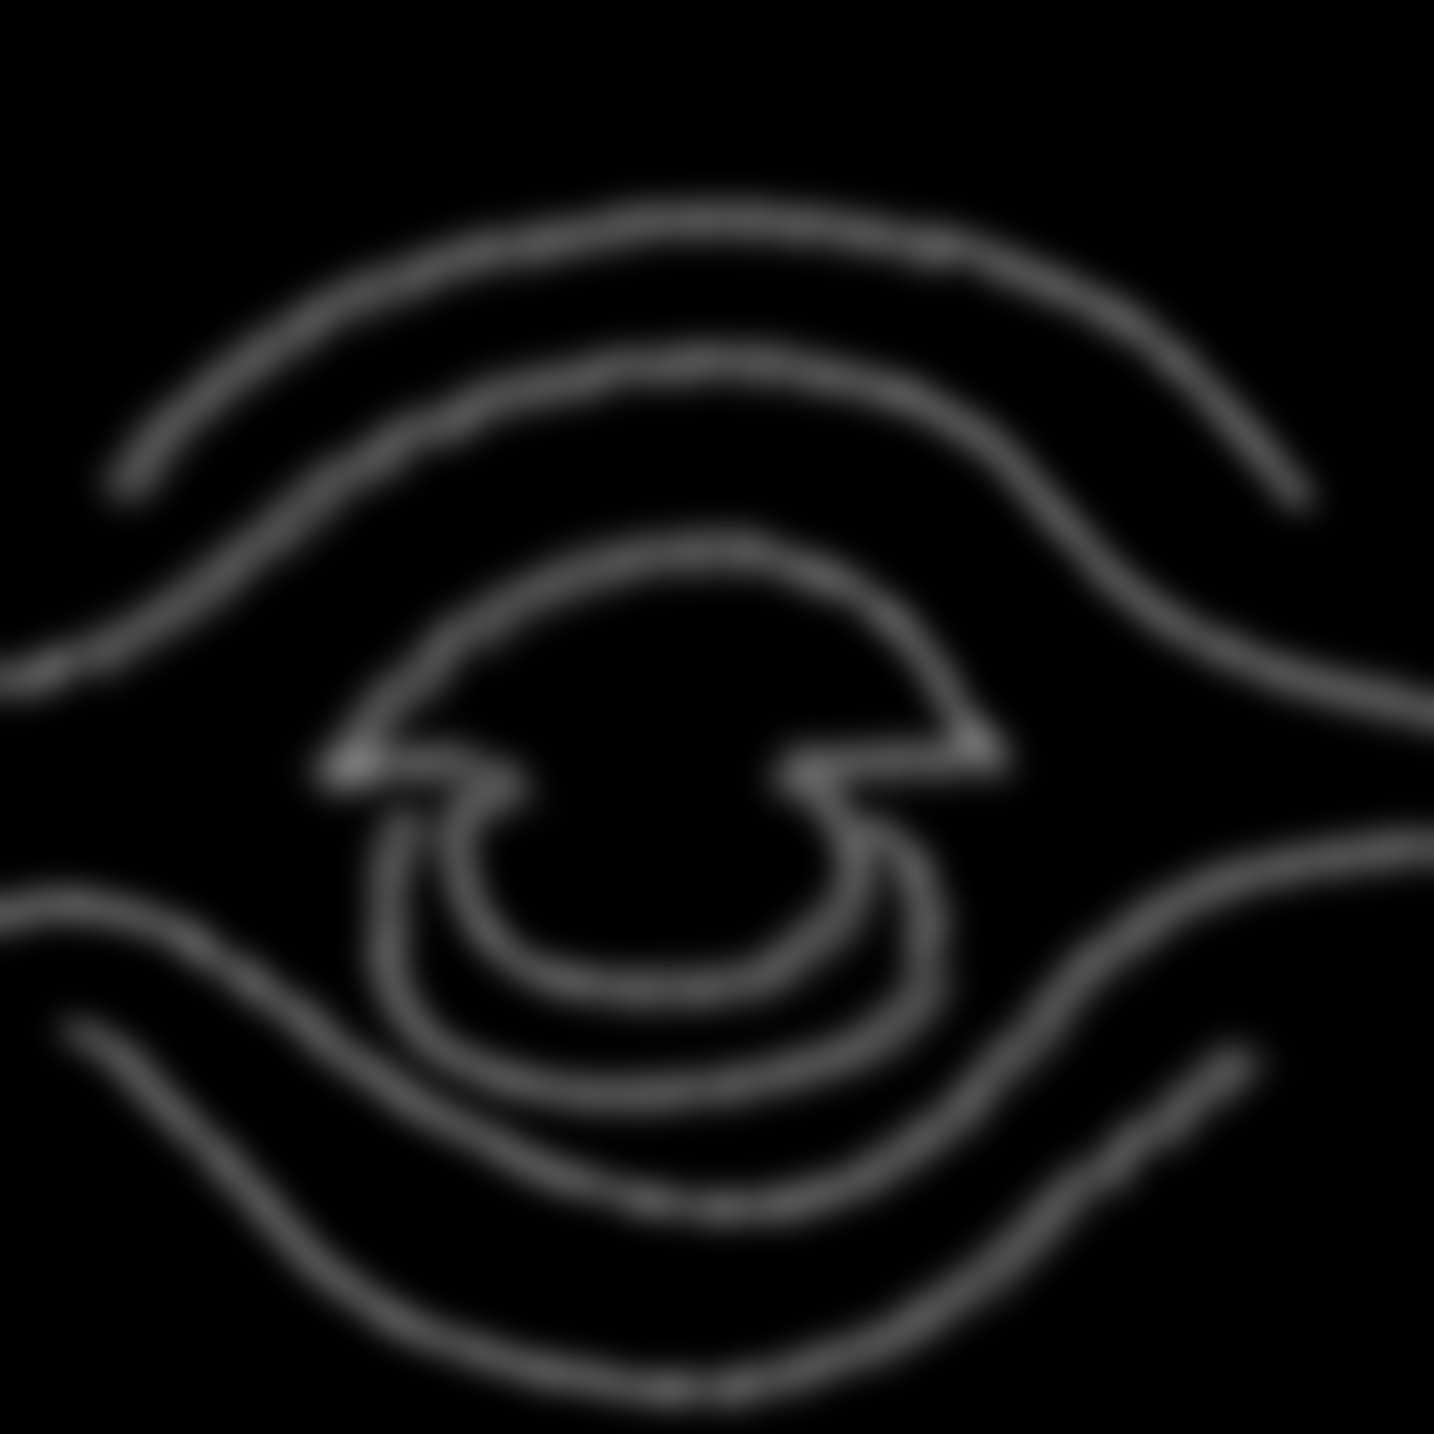Transition flow: (21, 177, 1387, 1405)
